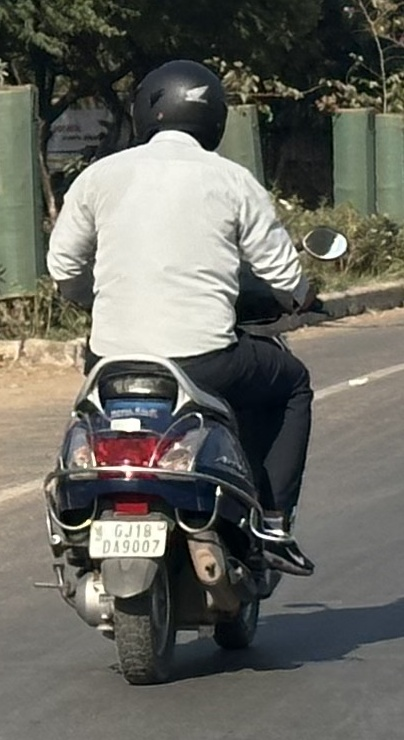BikeWithRider: (25, 51, 354, 691)
Helmet: (118, 53, 237, 158)
